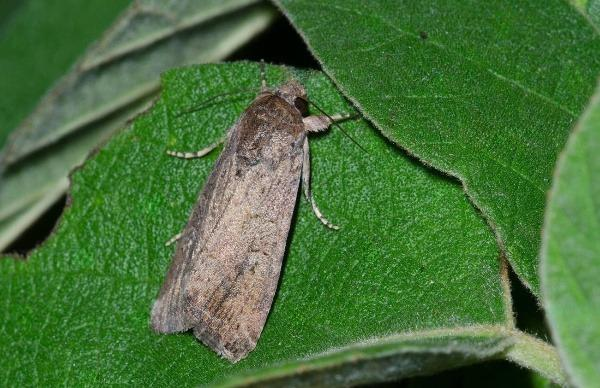army worm adult: (145, 64, 349, 363)
